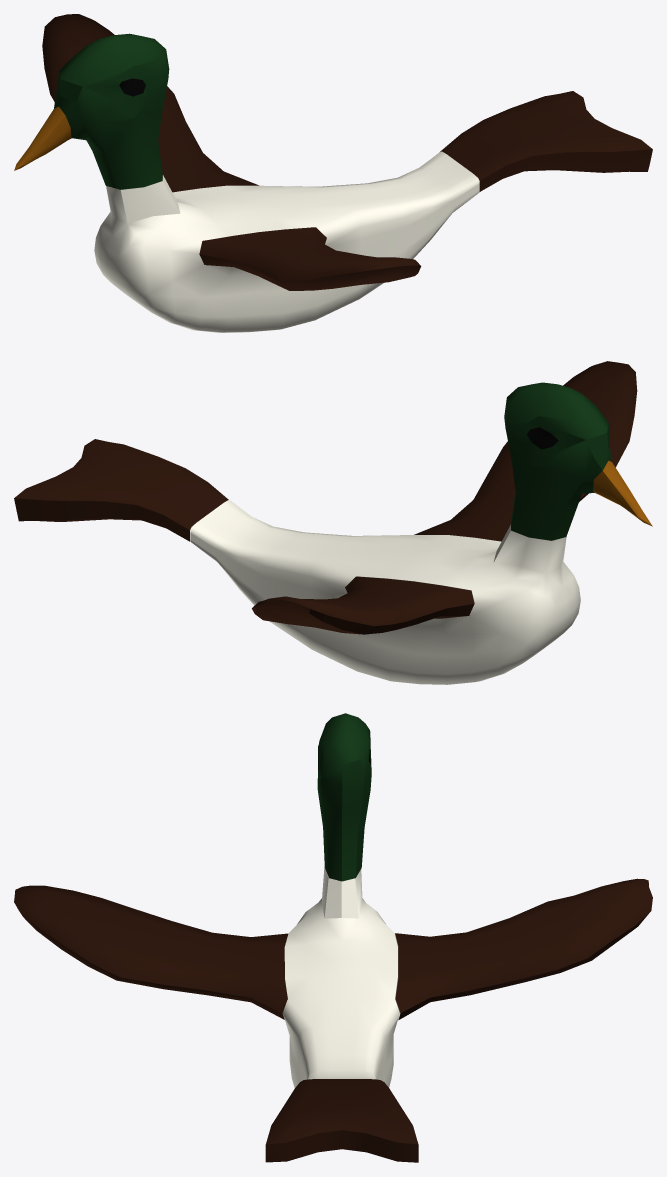
The model's file is patoVolador.fbx.
3 renders of one model, top to bottom at view 1: azimuth 30°, elevation 25°; view 2: azimuth 150°, elevation 25°; view 3: azimuth 270°, elevation 25°, orthographic. The views are drawn at different scales.
Visible parts, largest first — view 1: cos; view 2: cos; view 3: cos.
Part boxes in pixels (x1,y1,x2,y2): cos: [14, 14, 652, 332]; cos: [14, 361, 652, 684]; cos: [14, 713, 652, 1162].
Size of the model in its own units: 1.58 by 0.7943 by 1.54.
